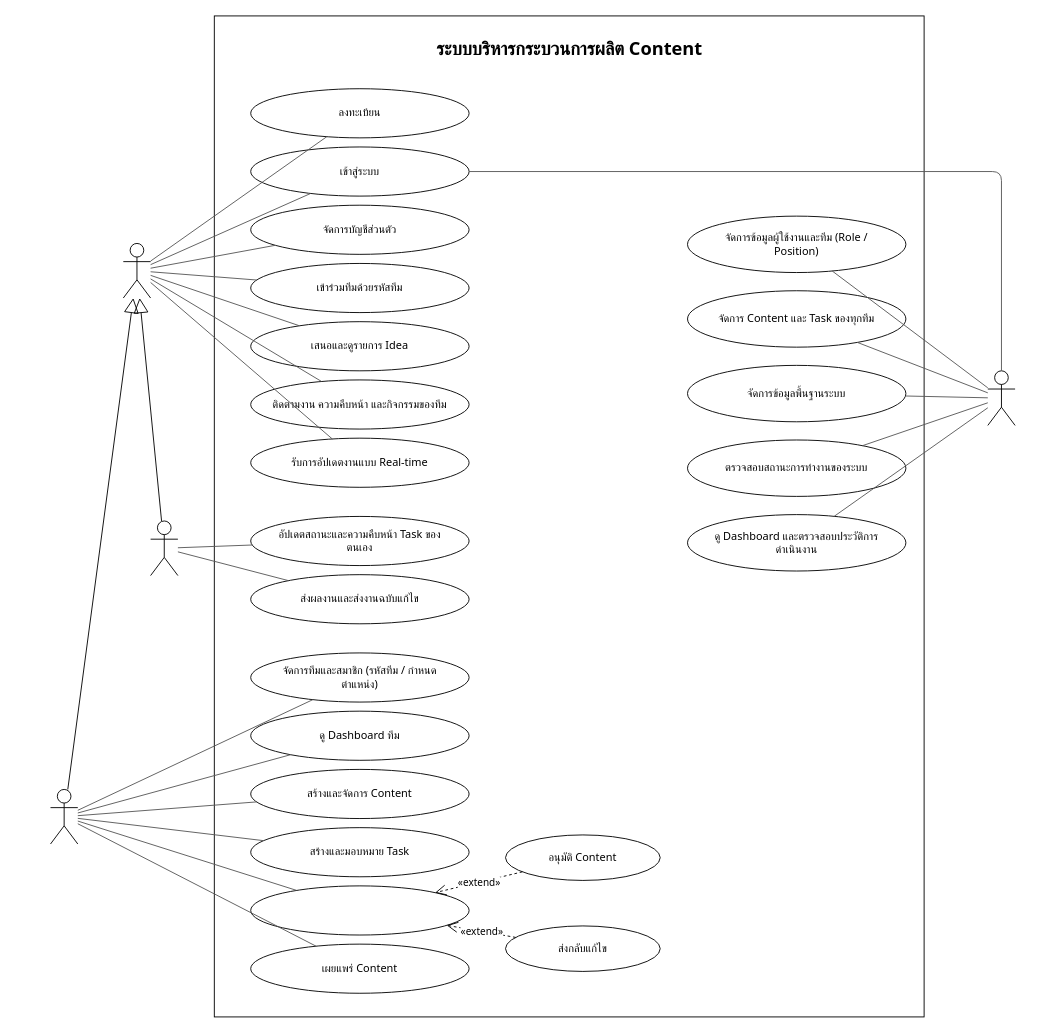
Some shapes in this 1060 by 1033 pixel diagram are drawn without their labels. Each missing label, with the box of its shape:
ตรวจสอบ Content: (250, 885, 469, 935)
ผู้ดูแลระบบ (Admin): (987, 370, 1015, 425)
ผู้ใช้ (User): (122, 243, 151, 298)
สมาชิก (Member): (150, 520, 178, 576)
หัวหน้าทีม (Manager): (50, 789, 78, 844)
